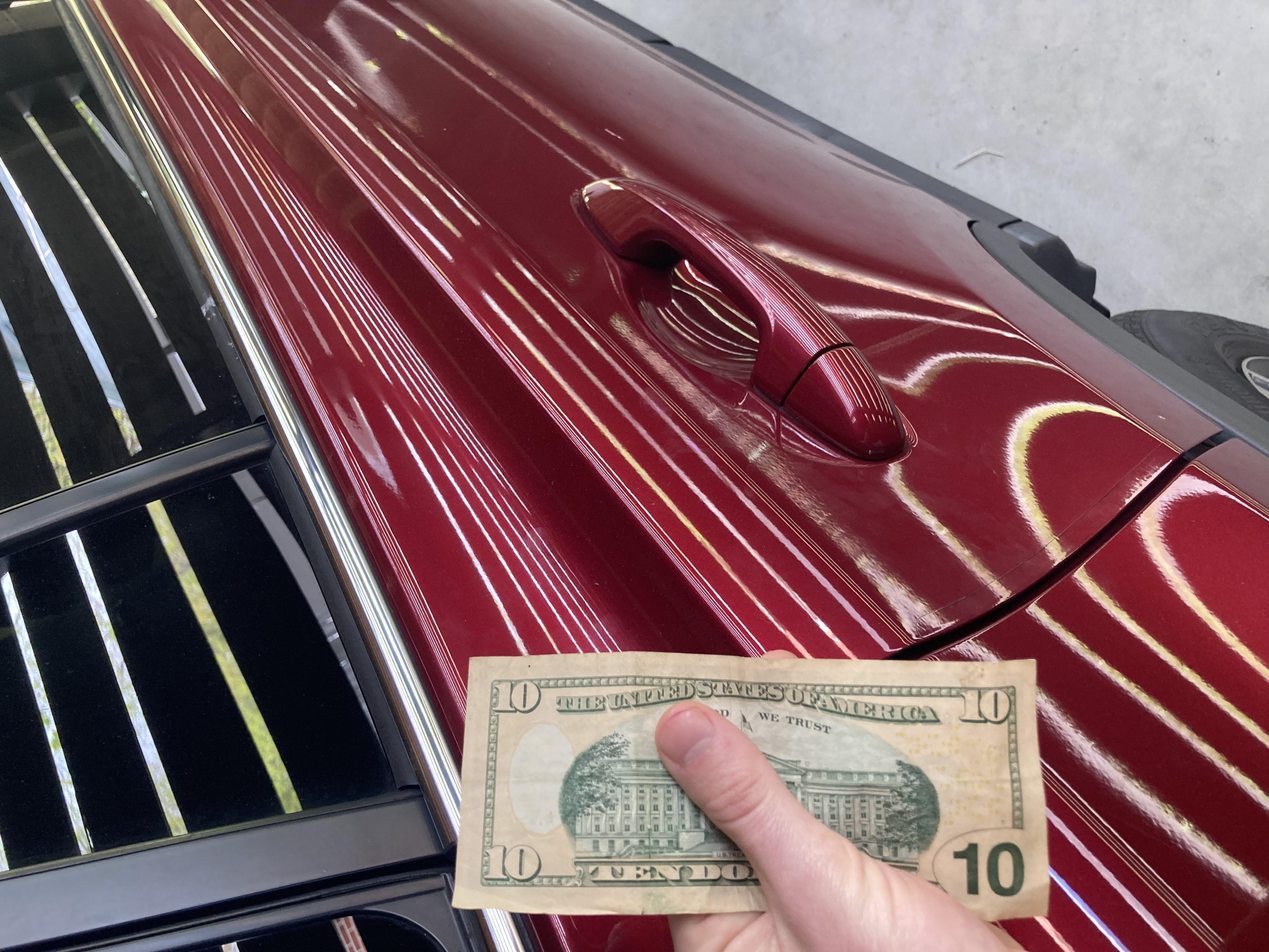ten-back: (44, 339, 397, 787)
